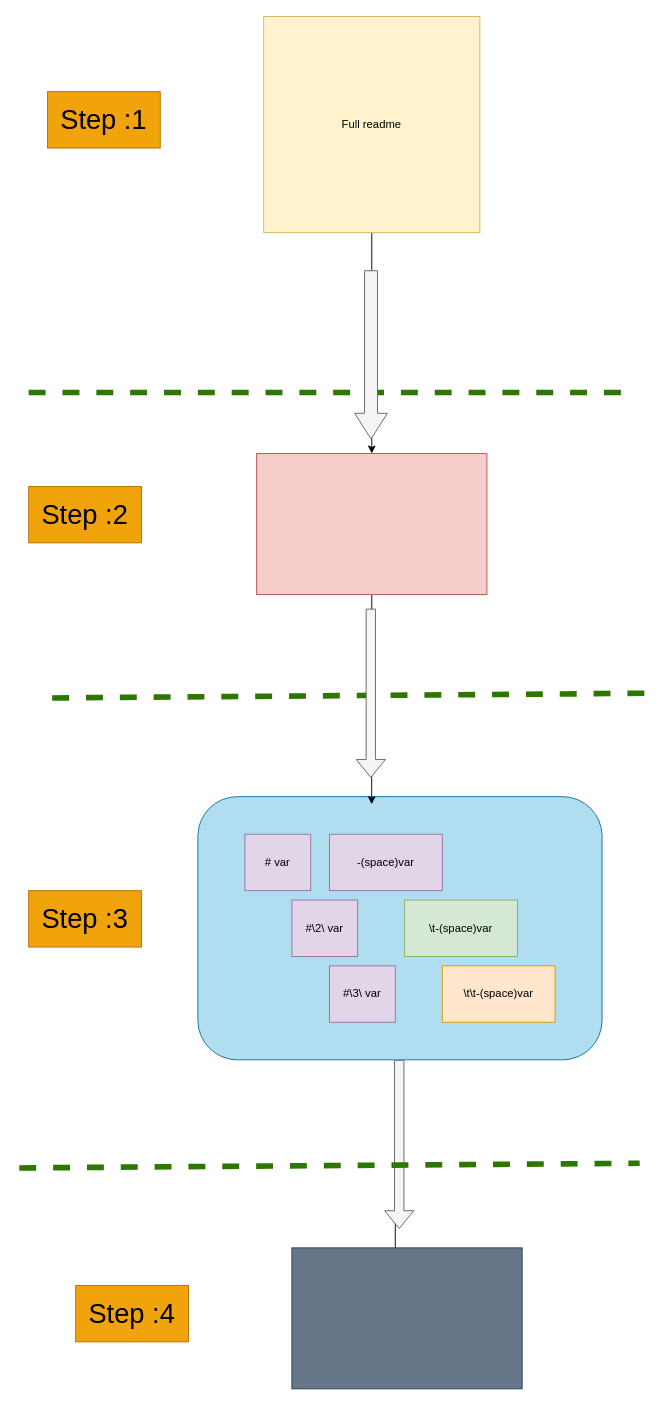
The diagram is 668 pixels wide and 1405 high, and some of its shapes have lost their labels. The shapes that lost their labels are listed below. From the top down, each one's box as (x1, y1, x2, y2) in pixels, then its label:
(256, 453, 487, 595): Clean # from line and space
(291, 1247, 522, 1389): Clean \2\ Clean \3\
